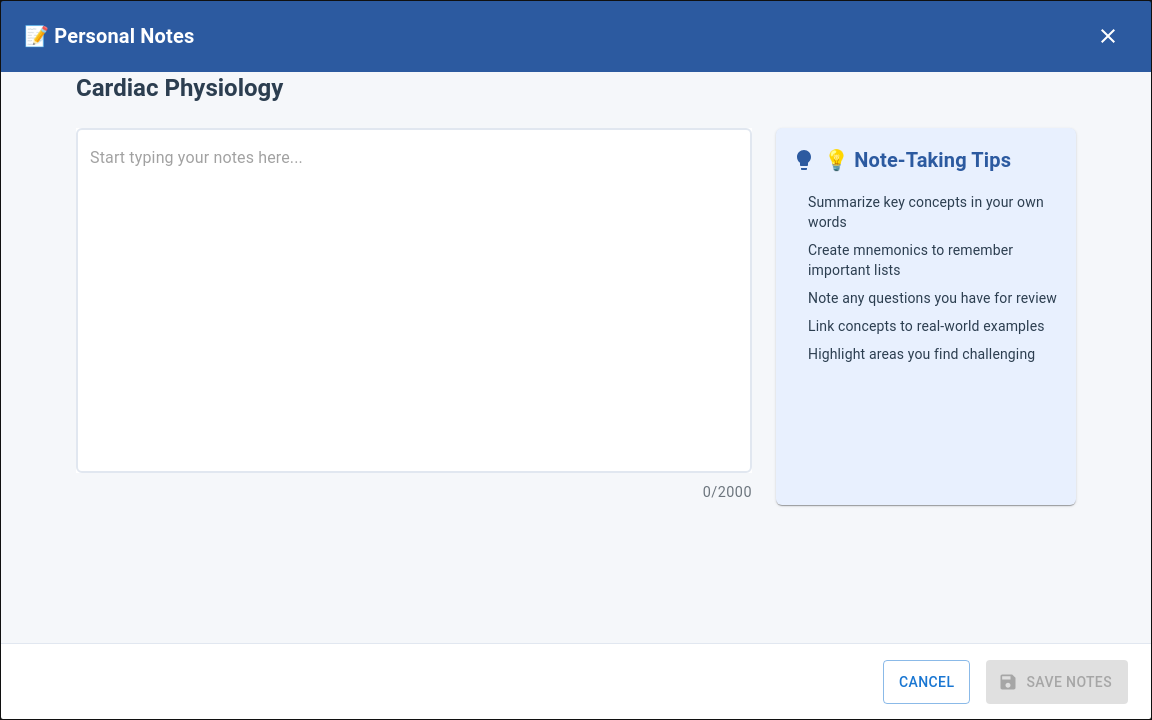
Test: NotesModal › Note Editing › should update character counter on typing
Expected: the text "0/2000" is shown, [703,484,752,501]
In the text box: (414, 300) [90,144,738,456], type "Test note content"
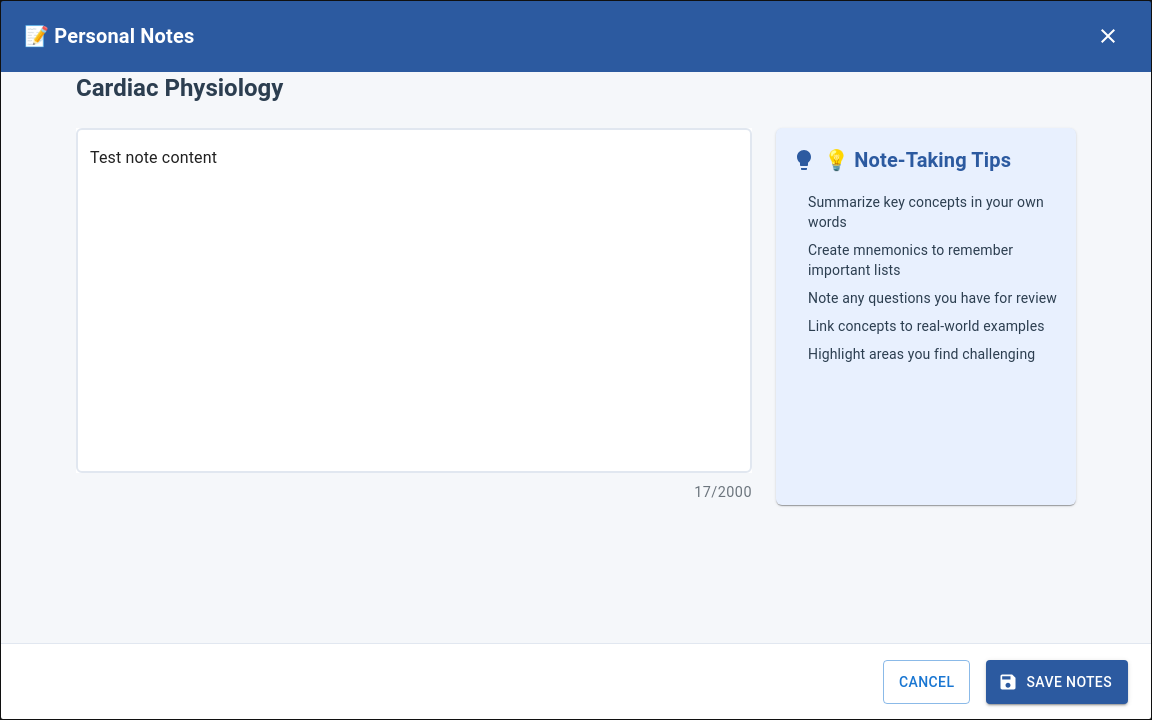
Result: the text "17/2000" is shown at [694,484,752,501]
